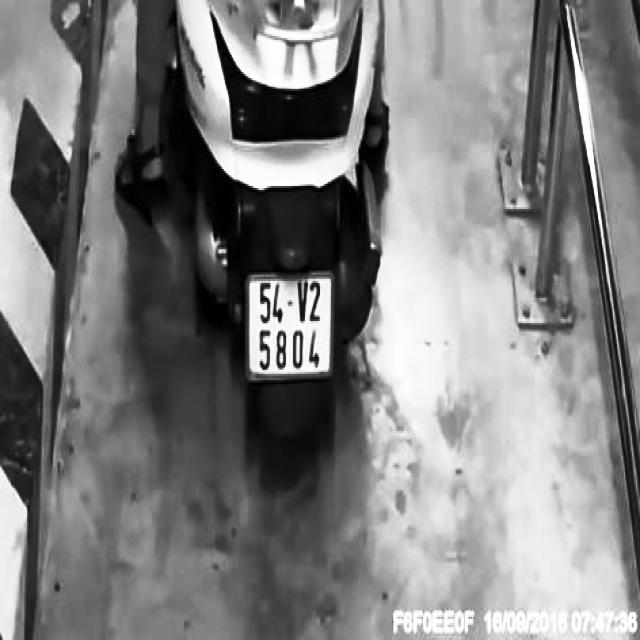license_plate: (244, 276, 349, 380)
